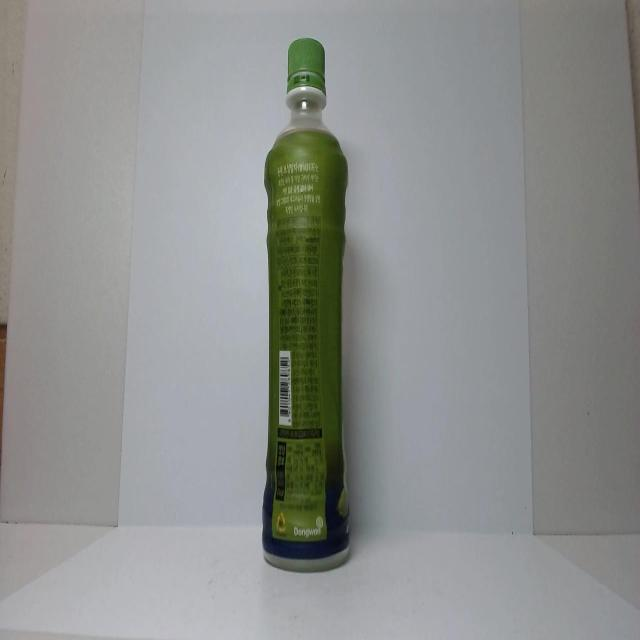bottle: (254, 29, 356, 579)
